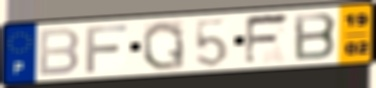5: (194, 17, 231, 67)
B: (292, 11, 339, 63), (37, 26, 82, 78)
F: (243, 11, 293, 67), (84, 23, 130, 74)
Q: (141, 19, 187, 72)
